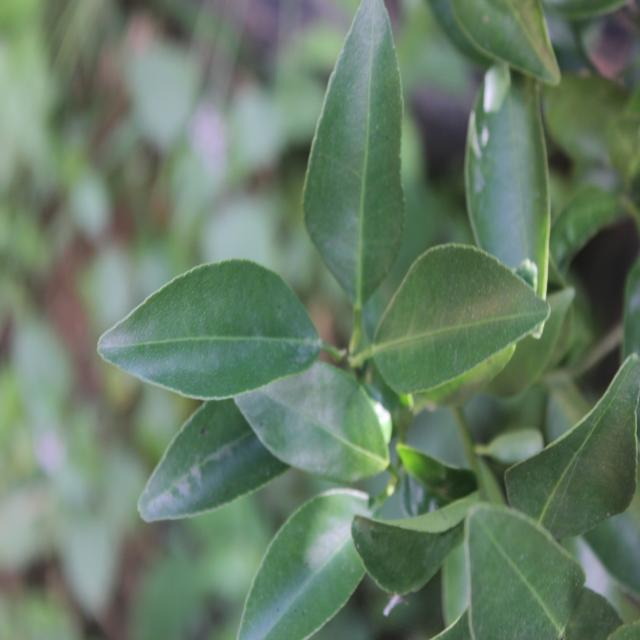healthy: (92, 257, 326, 403), (302, 2, 405, 300), (369, 251, 560, 401), (462, 497, 600, 640), (255, 366, 388, 479)
